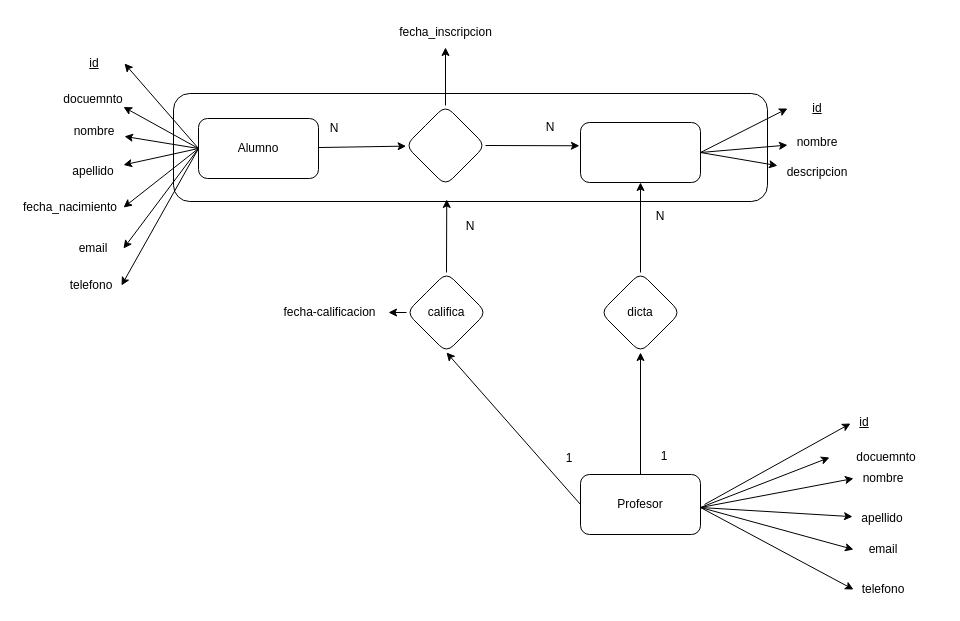
Some shapes in this 960 by 621 pixel diagram are drawn without their labels. Here are the shapes that lost their labels. From the top down, the centre of each, then its label:
the point at 445,145: Se inscribe
the point at 640,152: Curso
